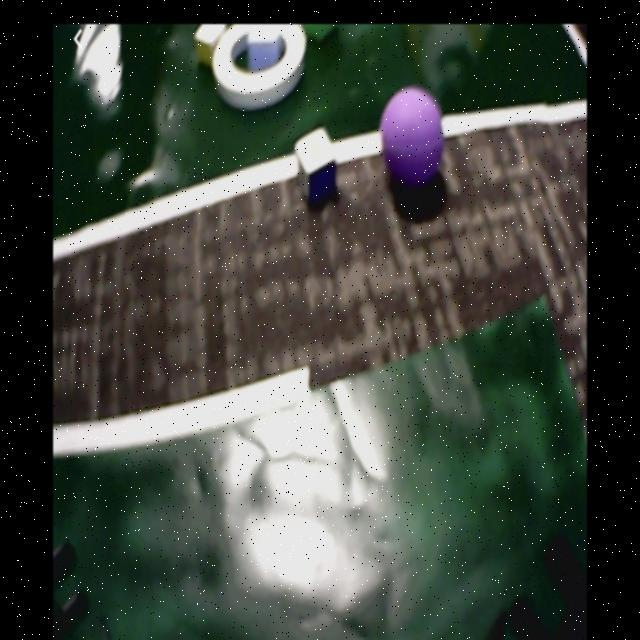ball: (382, 87, 443, 189)
